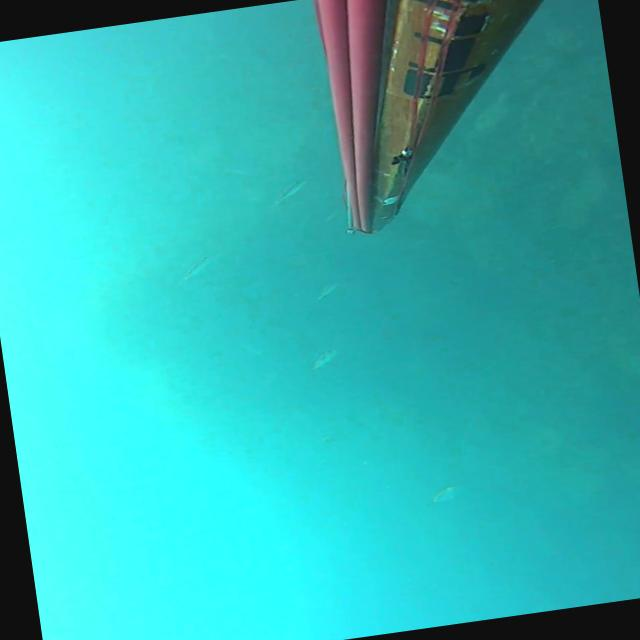Balon Baligi: (270, 179, 310, 204), (422, 486, 463, 506), (180, 256, 213, 280), (308, 350, 338, 370), (313, 284, 338, 300)
